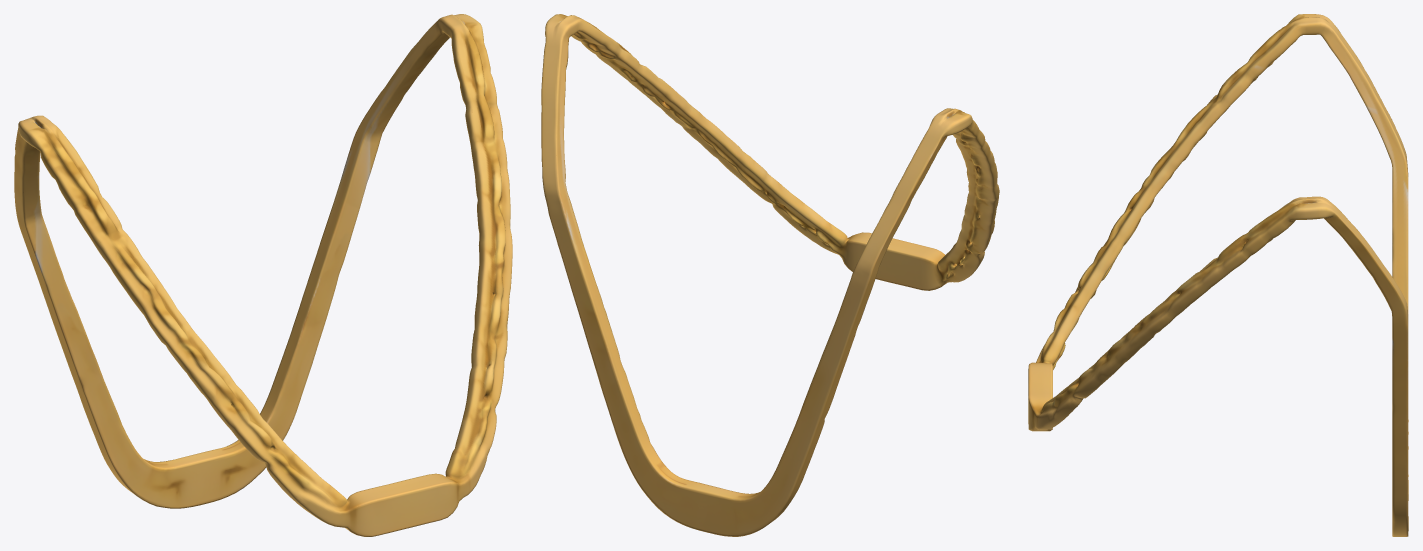
File: necklace_chain.glb
3 views of the same model, side by side, from view 1: azimuth 30°, elevation 25°; view 2: azimuth 150°, elevation 25°; view 3: azimuth 270°, elevation 25° (orthographic). The views are drawn at different scales.
Visible parts, largest first — view 1: model; view 2: model; view 3: model.
Part boxes in pixels (box(x1,y1,x2,y2)): model: box(14, 14, 512, 536); model: box(541, 14, 999, 536); model: box(1028, 14, 1408, 536).
Bounding box in the file's own units: 1.9 × 1.88 × 1.55.
Materials: 1 (1 with a texture image).
